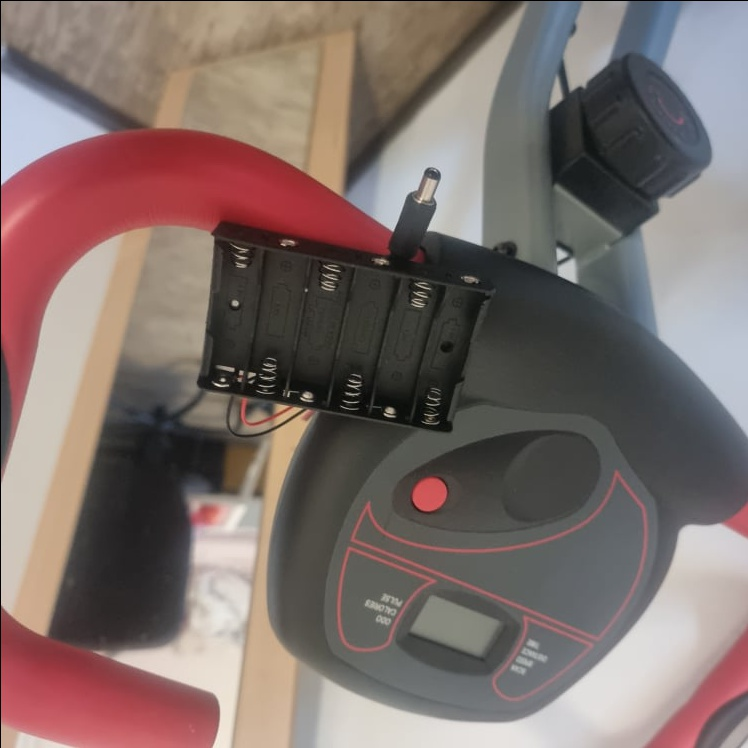BATTERY BOX: (195, 219, 494, 433)
